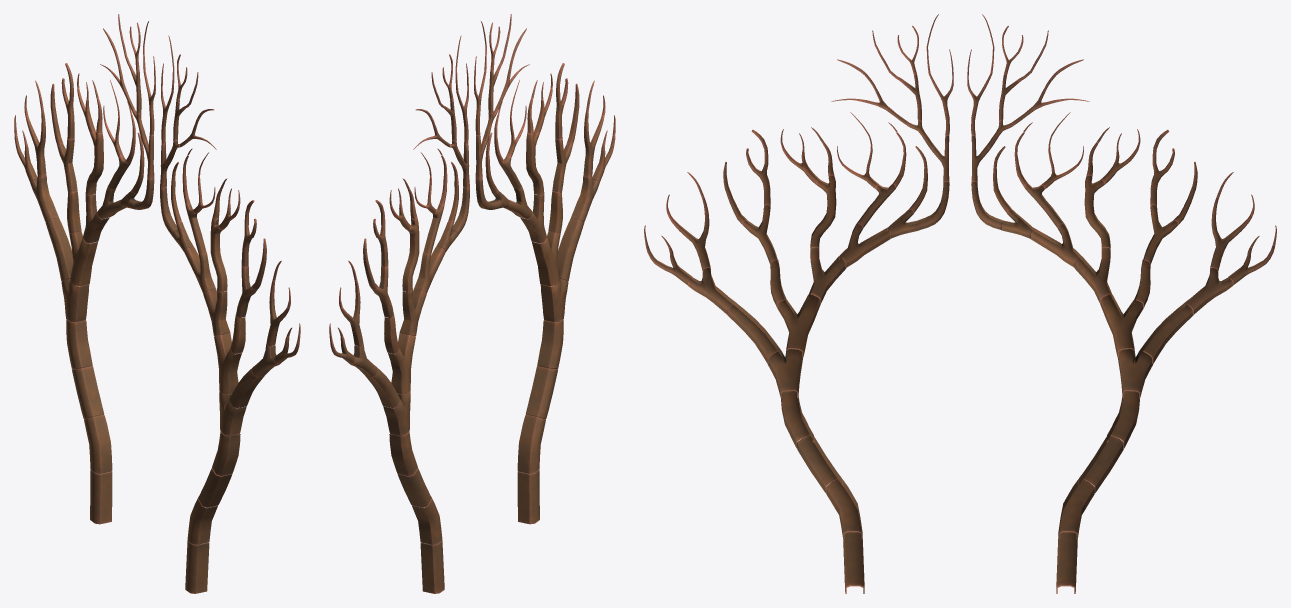
Rendered from arch.glb.
3 renders of one model, left to right at view 1: azimuth 30°, elevation 25°; view 2: azimuth 150°, elevation 25°; view 3: azimuth 270°, elevation 25°, orthographic. The views are drawn at different scales.
Parts seen in each view (by area): view 1: Mesh_0; view 2: Mesh_0; view 3: Mesh_0.
Boxes of the visible parts, x1,y1,x2,y2 form: Mesh_0: [14, 14, 300, 593]; Mesh_0: [329, 14, 615, 593]; Mesh_0: [644, 14, 1276, 593].
Bounding box in the file's own units: 0.1325 × 3.05 × 3.
1 material, 1 textured.
